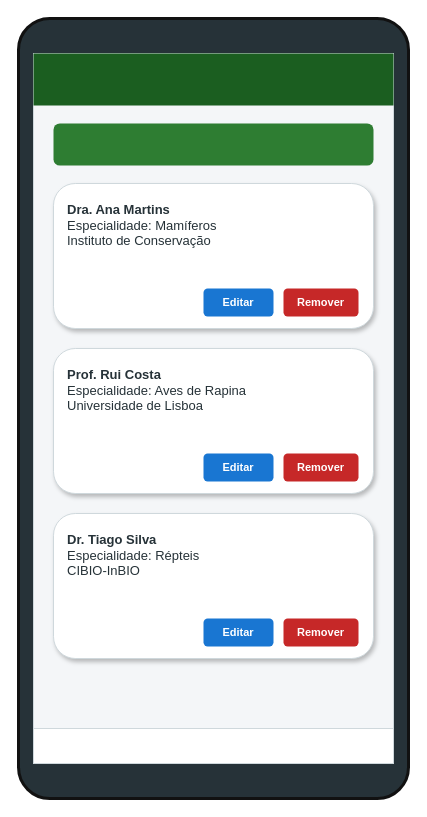
Image size: 427x817. Some labels were removed from this diagram. Here are the shapes that lost their labels. From the top down, the centre of each, then its label:
At point 213,79: "☰ Animalec — Experts".
At point 213,144: "+ Novo Especialista".
At point 213,746: "Animalec Back-office (Mobile)".
